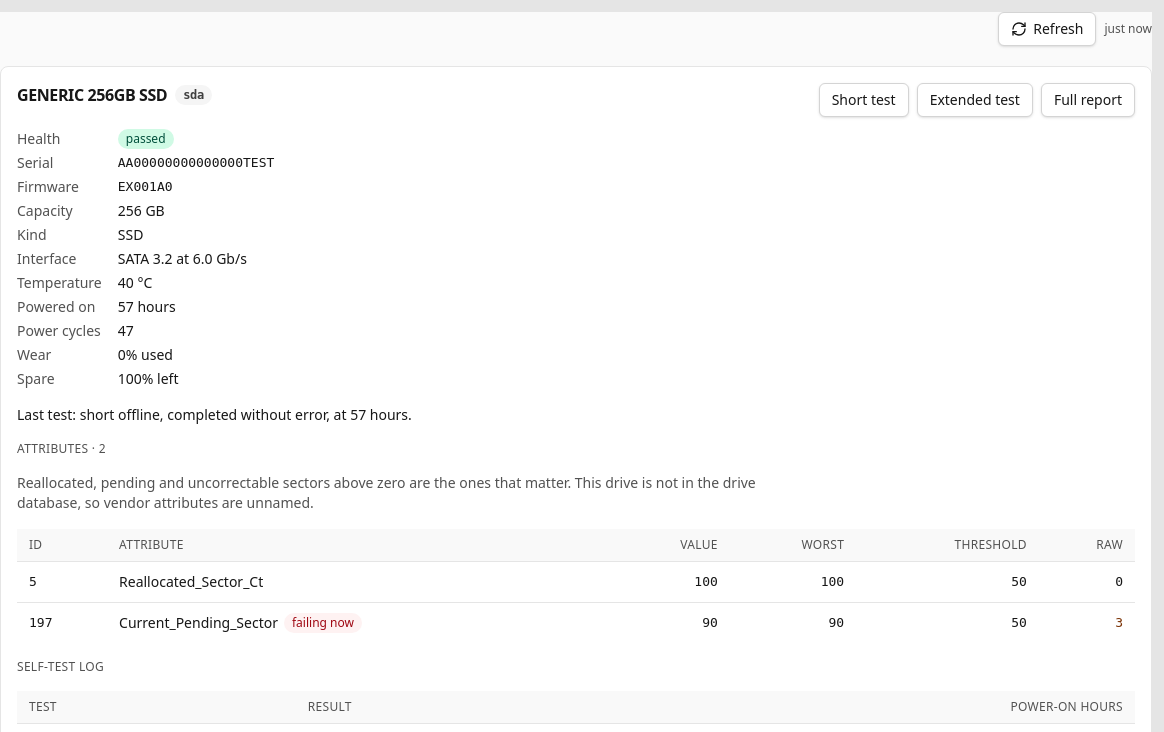
Test: DrivesPage › starts a short test without asking
The image size is (1164, 732).
Click the button "Short test" at x=864, y=100, box [819,83,909,117]
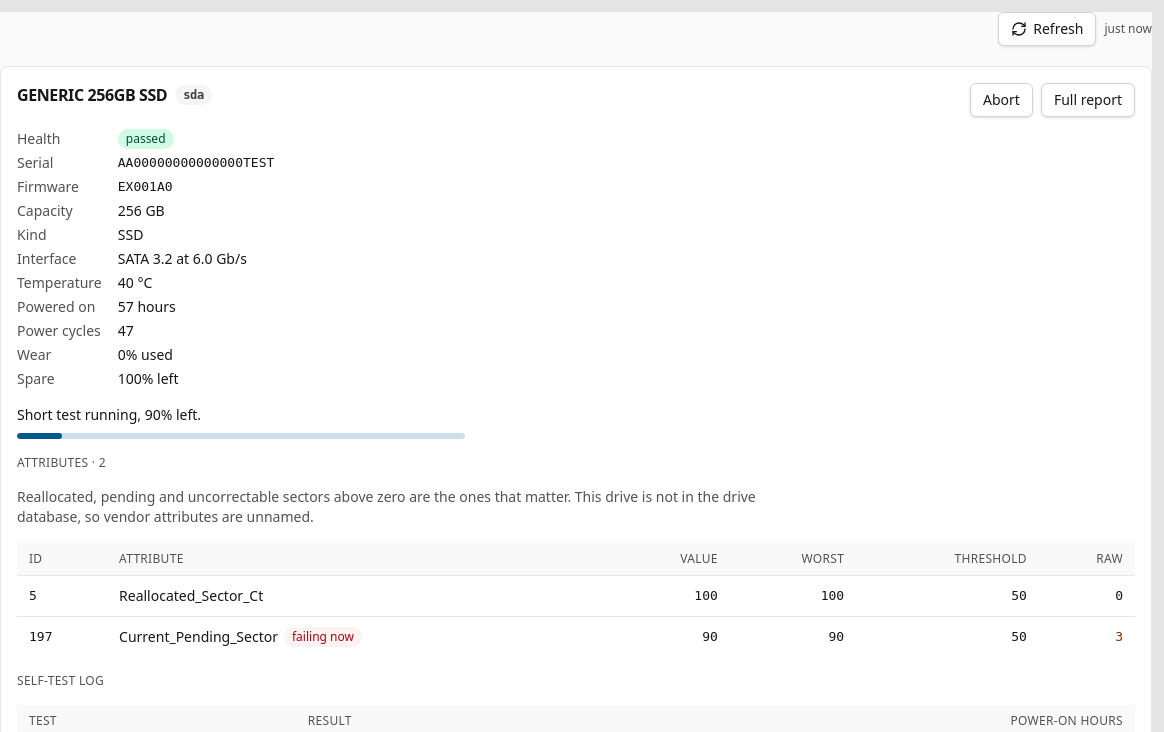
Now the element with class "meter" is shown, box [17,433,465,439]
Now the text "Short test running, 90% left." is shown, box [17,405,201,424]
